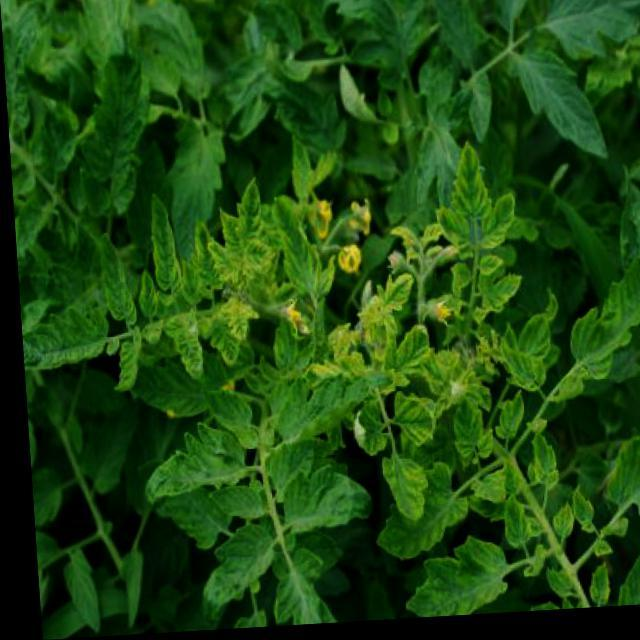Tomato healthy leaf: (361, 459, 464, 566), (565, 257, 639, 393), (263, 367, 367, 460), (388, 544, 502, 622), (189, 530, 268, 622), (18, 305, 106, 381), (270, 468, 364, 538), (270, 196, 320, 306), (597, 411, 639, 534), (440, 146, 492, 234), (204, 296, 254, 381), (141, 190, 180, 296), (440, 398, 490, 478), (373, 459, 422, 532), (378, 326, 426, 398), (467, 196, 515, 266), (192, 386, 250, 439), (229, 176, 266, 256), (384, 392, 431, 454), (496, 345, 540, 407), (104, 330, 144, 393), (170, 327, 205, 388), (347, 404, 383, 462), (561, 484, 593, 548), (474, 278, 520, 322), (488, 395, 522, 451), (492, 501, 522, 562), (264, 322, 294, 379), (526, 436, 554, 496), (373, 273, 413, 313), (540, 506, 568, 550), (576, 566, 602, 613)
